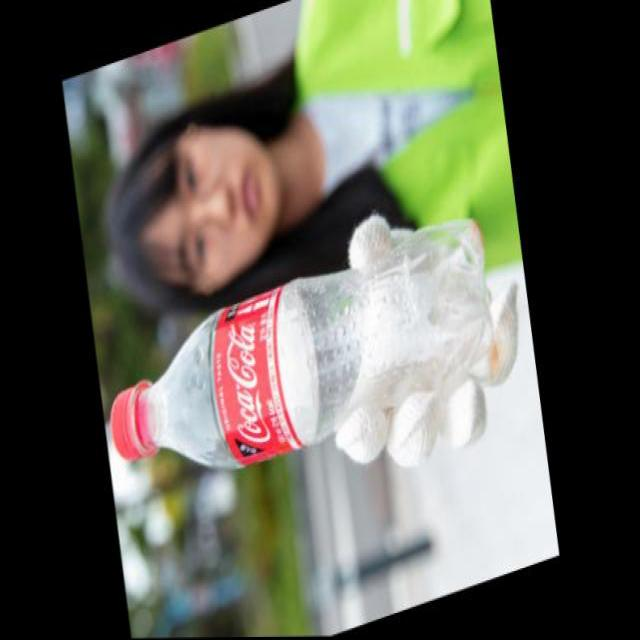empty: (112, 220, 516, 468)
